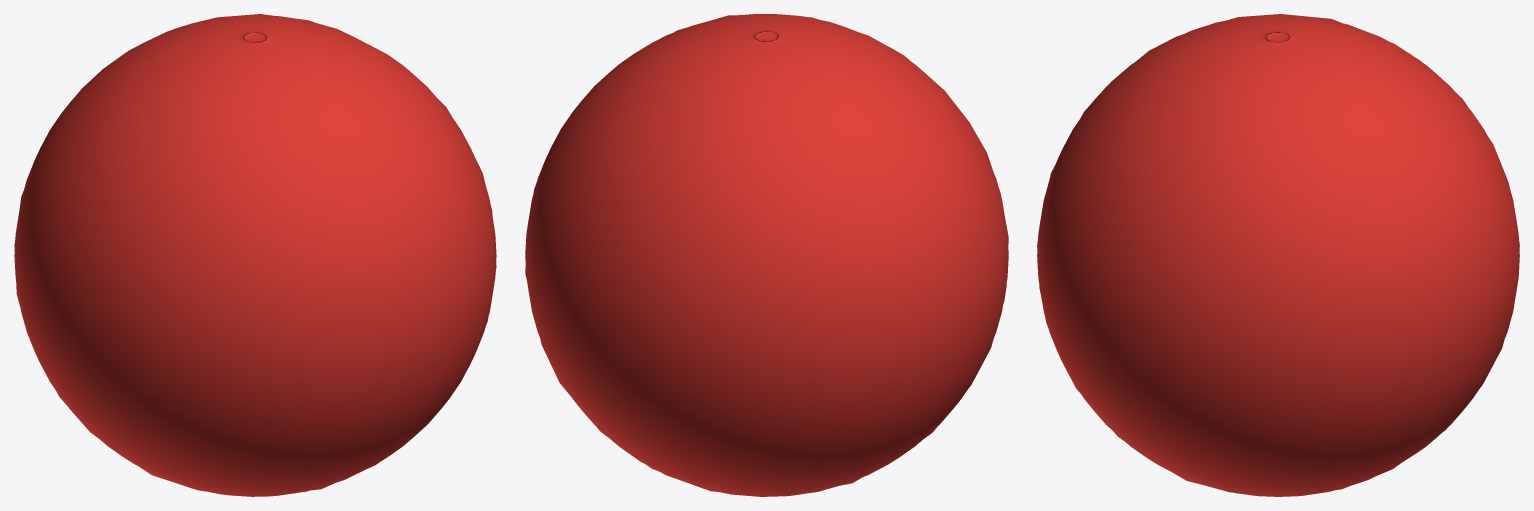
Rendered from layer-coat.glb.
3 renders of one model, left to right at view 1: azimuth 30°, elevation 25°; view 2: azimuth 150°, elevation 25°; view 3: azimuth 270°, elevation 25°, orthographic.
Visible parts, largest first — view 1: coat (×2); view 2: coat (×2); view 3: coat (×2).
Boxes of the visible parts, box(x1,y1,x2,y2) form: coat (×2): box(14, 14, 496, 496); coat (×2): box(525, 14, 1008, 496); coat (×2): box(1037, 14, 1519, 496).
Size of the model in its own units: 0.84 by 0.84 by 0.84.
